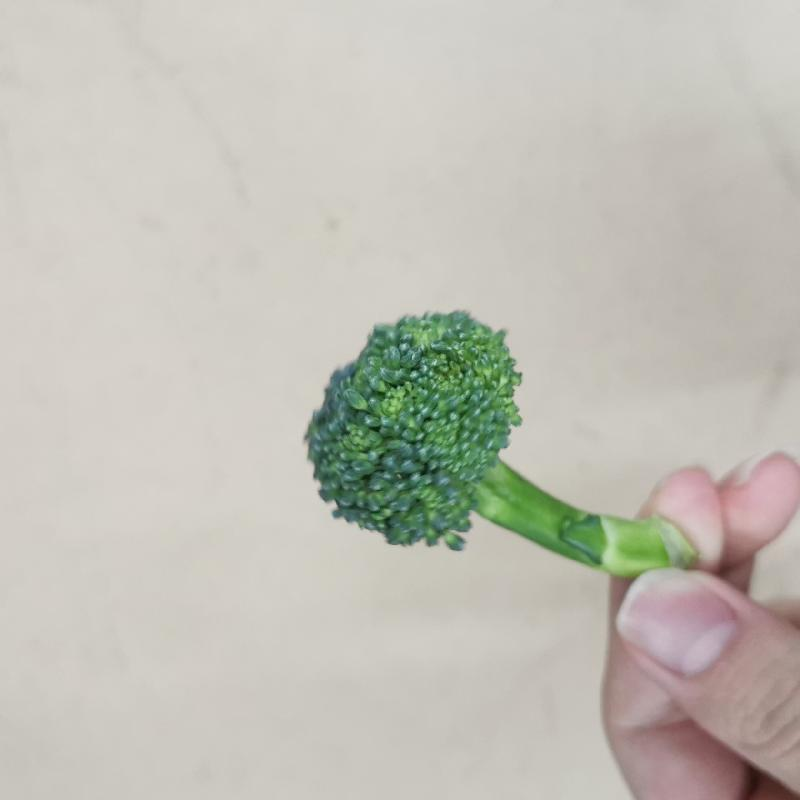broccoli: (296, 308, 698, 590)
